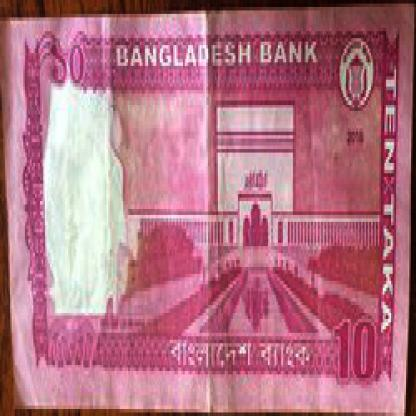Ten Taka: (329, 312, 378, 392), (45, 35, 90, 97)
